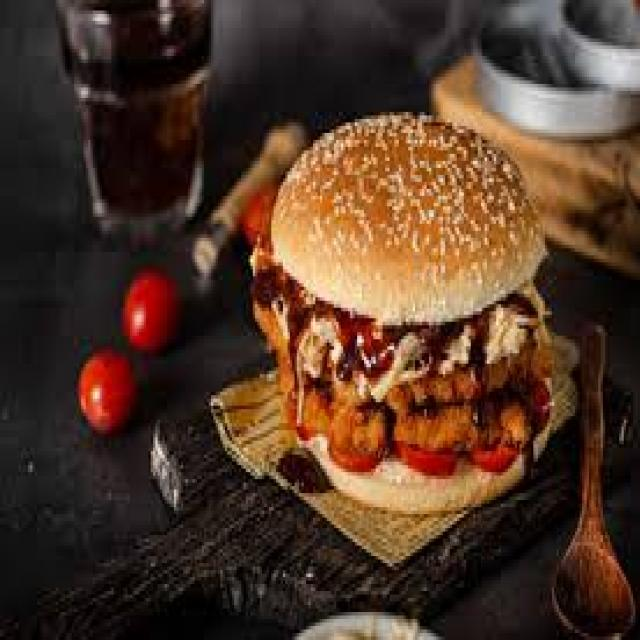햄버거: (247, 118, 566, 532)
